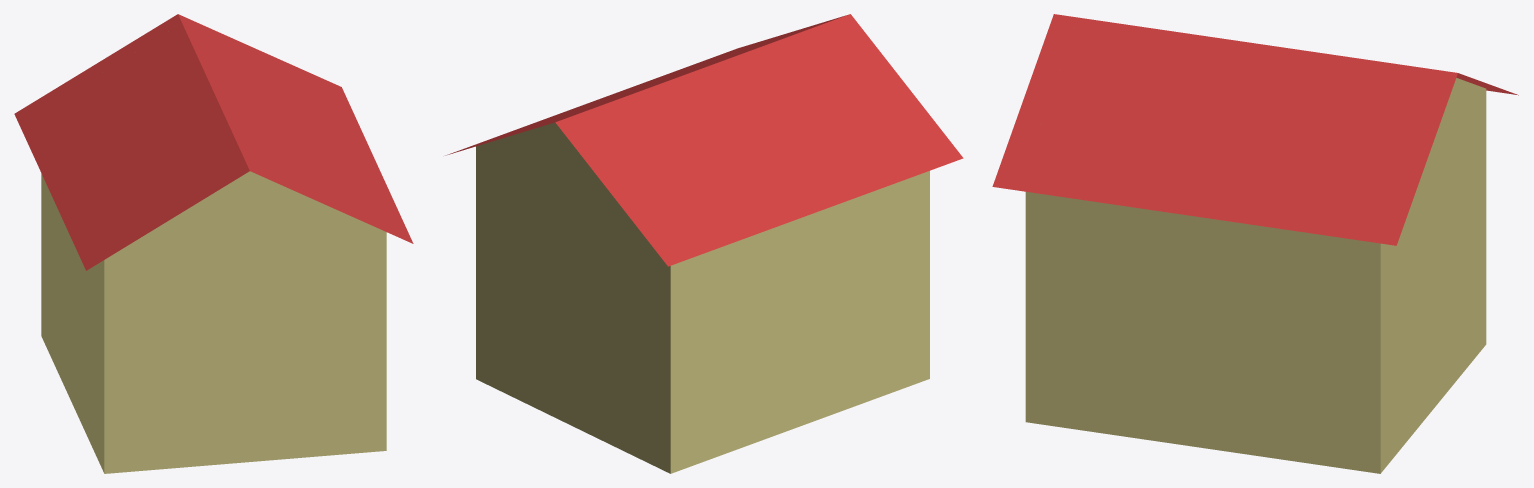
The picture shows the model from 3 angles, left to right: view 1: azimuth 30°, elevation 25°; view 2: azimuth 150°, elevation 25°; view 3: azimuth 270°, elevation 25°; orthographic projection. The views are drawn at different scales.
Parts seen in each view (by area): view 1: group_5, group_3, group_4; view 2: group_5, group_3, group_4; view 3: group_5, group_3, group_4.
Boxes of the visible parts, <box> form: group_5: <box>41,171,386,473</box>; group_3: <box>14,14,413,270</box>; group_4: <box>14,14,413,243</box>; group_5: <box>476,122,929,473</box>; group_3: <box>445,14,963,265</box>; group_4: <box>549,15,877,266</box>; group_5: <box>1025,78,1486,473</box>; group_3: <box>993,17,1518,245</box>; group_4: <box>992,14,1504,235</box>.
Size of the model in its own units: 14.28 by 15.19 by 10.8.
